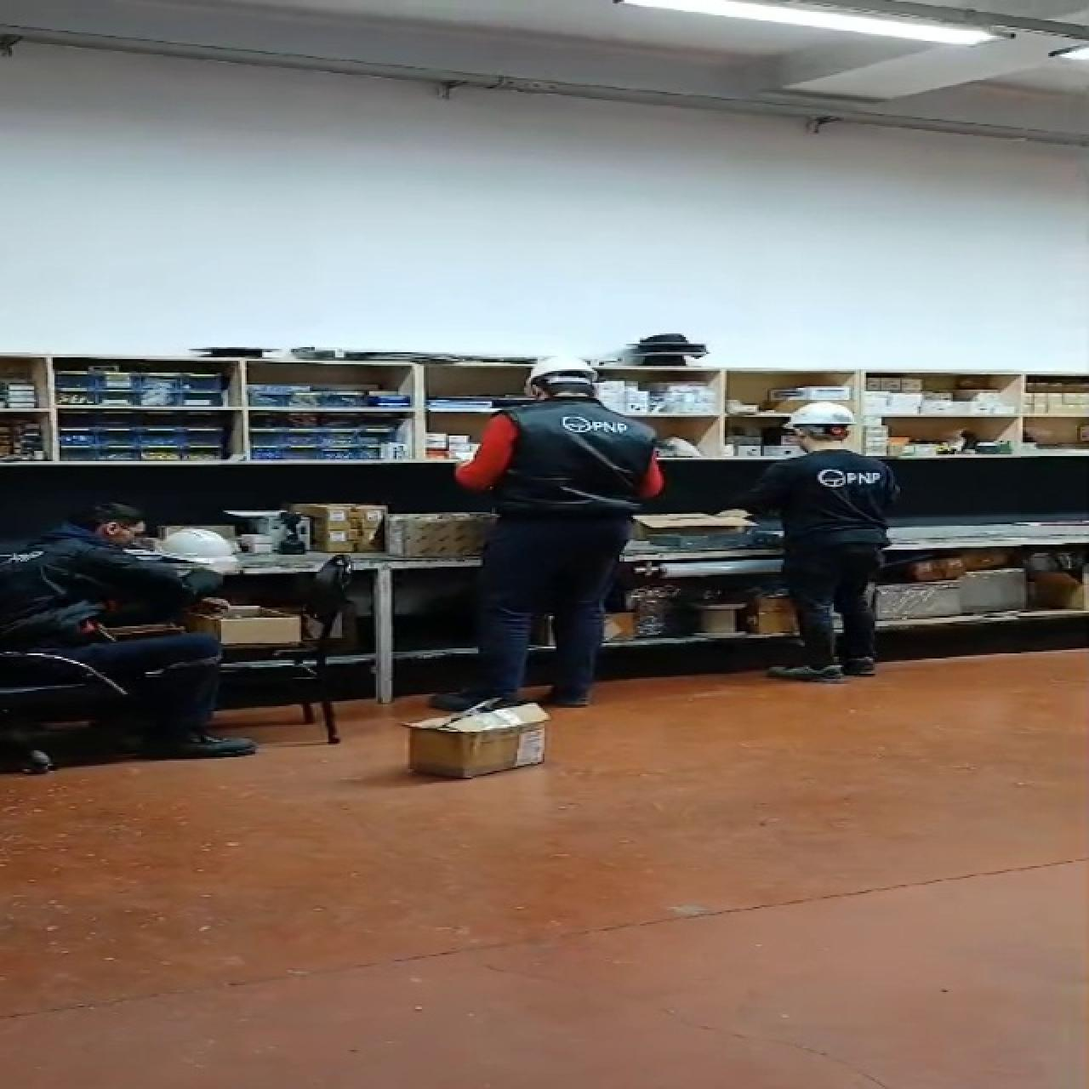NO_Safety_Vest: (502, 406, 643, 529), (0, 528, 104, 650), (784, 458, 888, 544)
Person: (413, 346, 661, 713), (0, 487, 282, 762), (724, 399, 903, 685)
